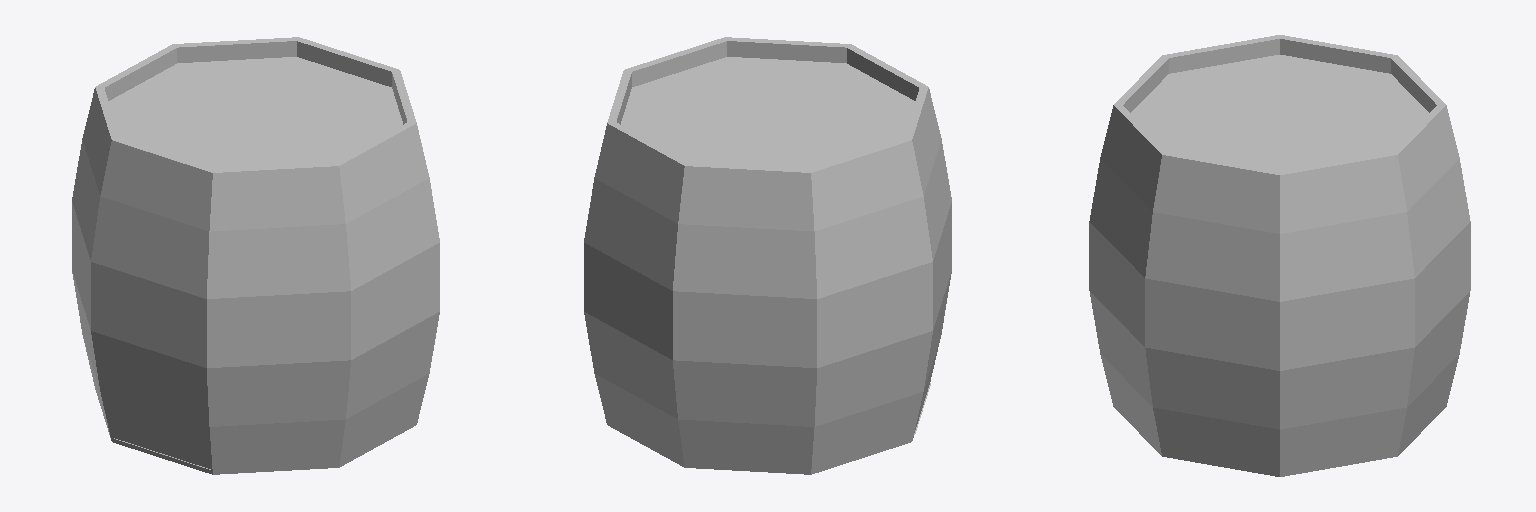
File: barrel.obj
3 views of the same model, side by side, from view 1: azimuth 30°, elevation 25°; view 2: azimuth 150°, elevation 25°; view 3: azimuth 270°, elevation 25° (orthographic).
Visible parts, largest first — view 1: Cylinder; view 2: Cylinder; view 3: Cylinder.
Part boxes in pixels (left/top/right/bottom): Cylinder: left=72, top=37, right=439, bottom=474; Cylinder: left=584, top=37, right=951, bottom=474; Cylinder: left=1089, top=35, right=1470, bottom=476.
Bounding box in the file's own units: 2.29 × 2 × 2.29.